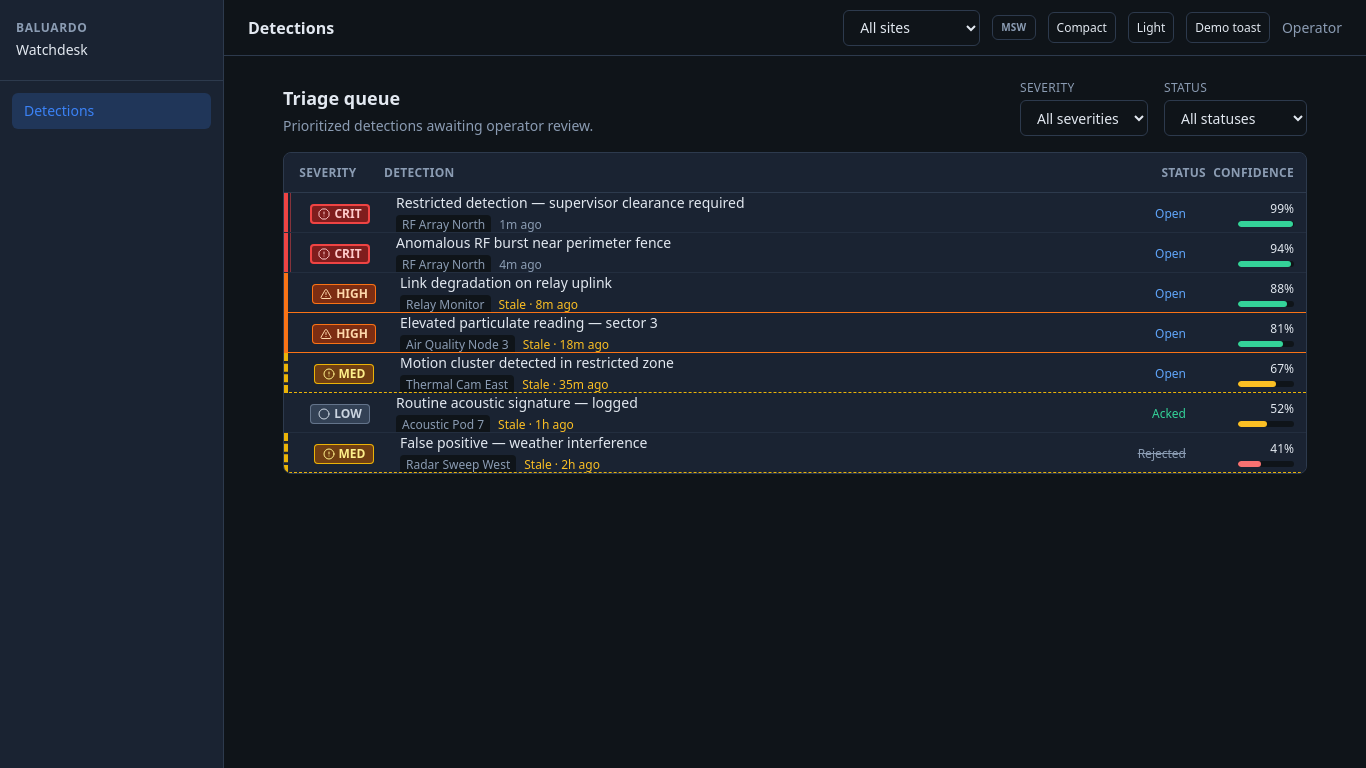
watchdesk shell › shows a toast from the demo control
The image size is (1366, 768).
Click the button with test id "toast-demo" at (1228, 28), box [1186,12,1270,43]
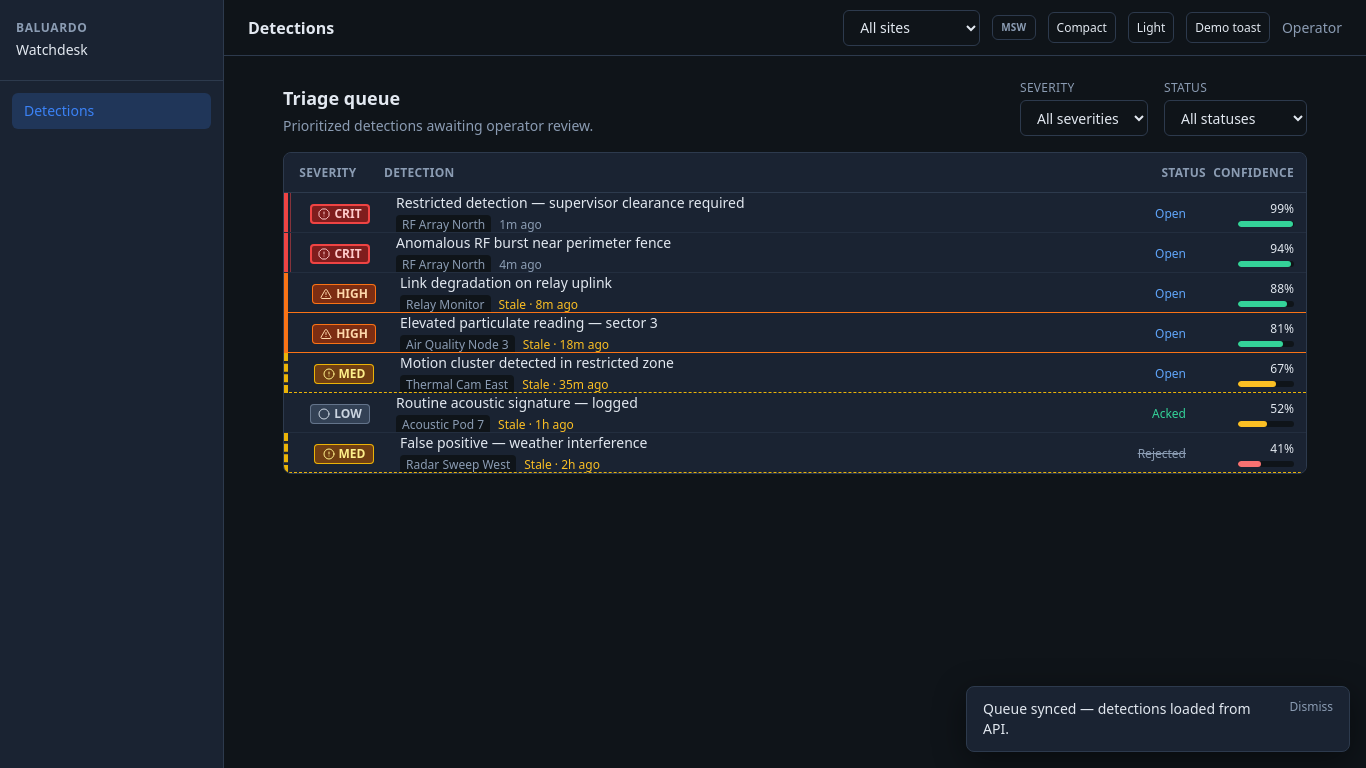
Expected: the text "Queue synced" is shown, [983,699,1251,738]
